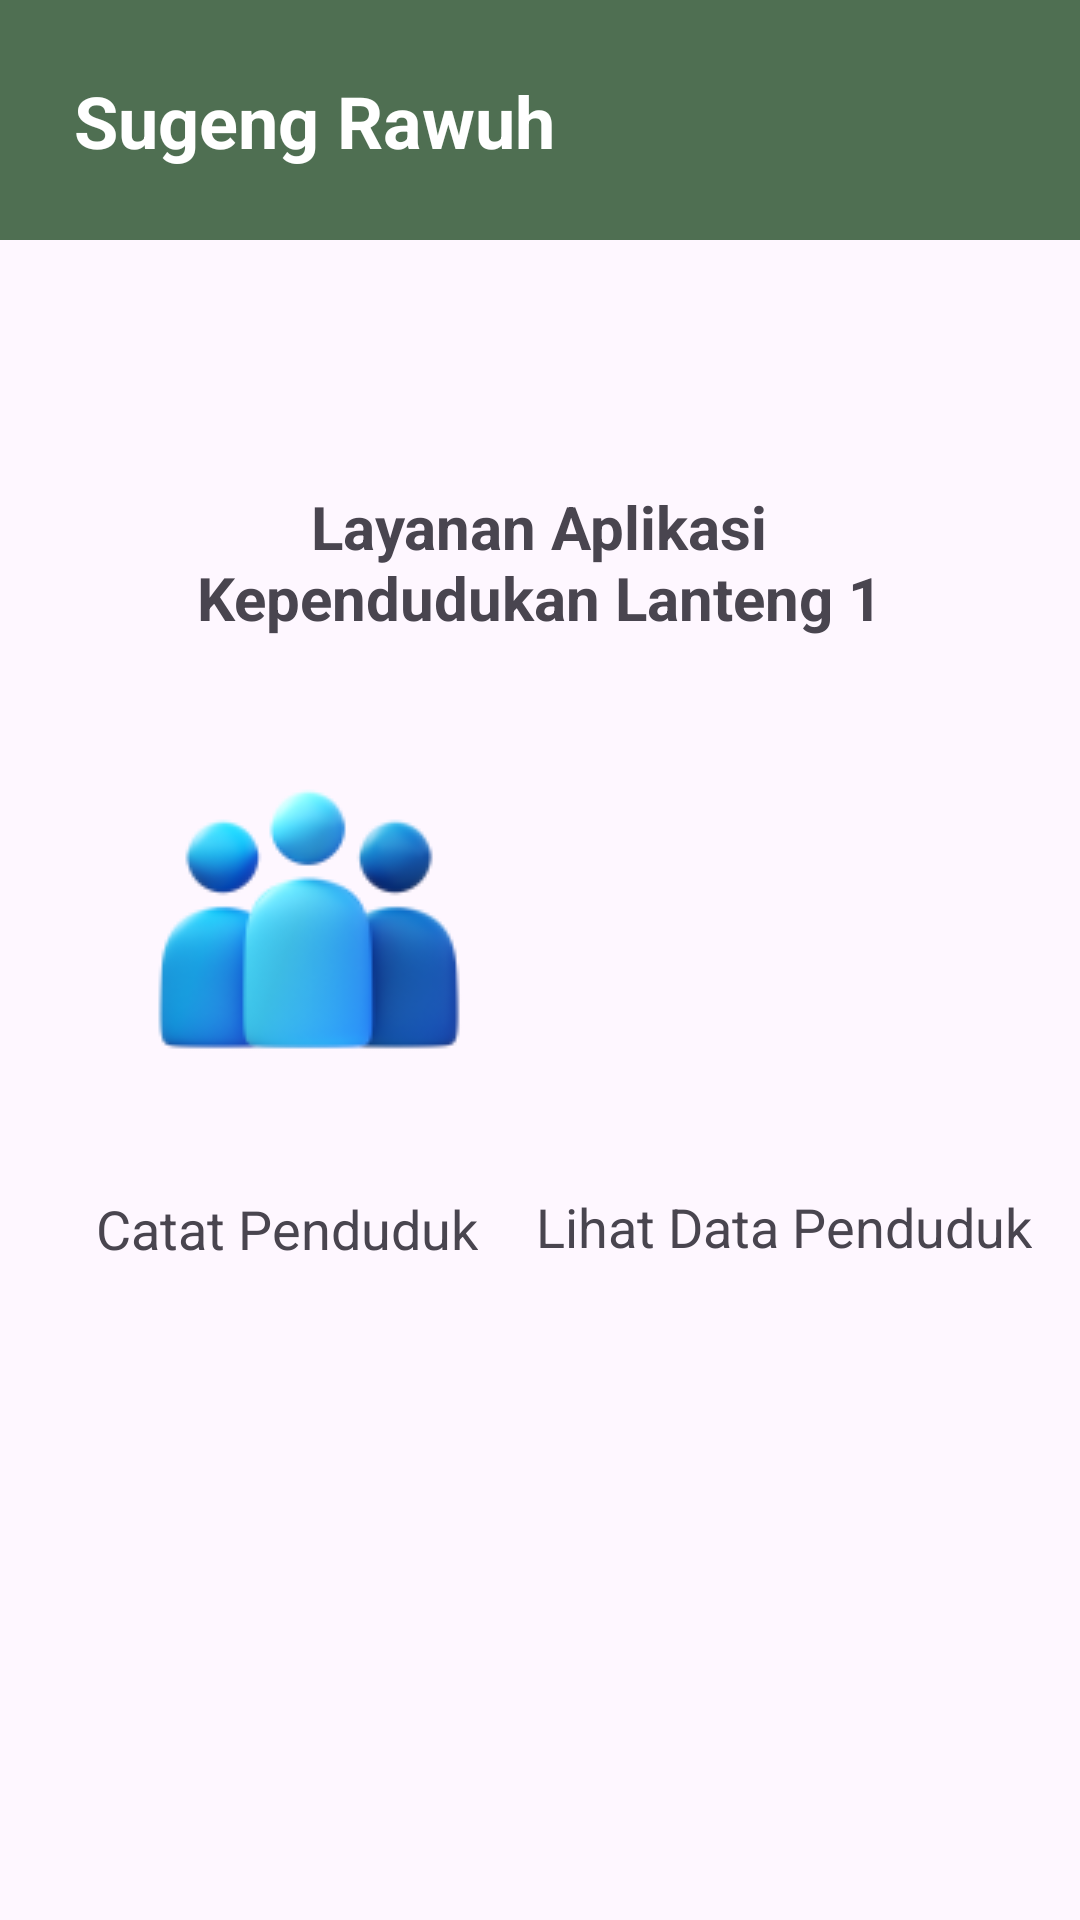

Icon click points for this 1080x1920 phone screenshot, format (x=x, y=y):
people: (x=309, y=920)
